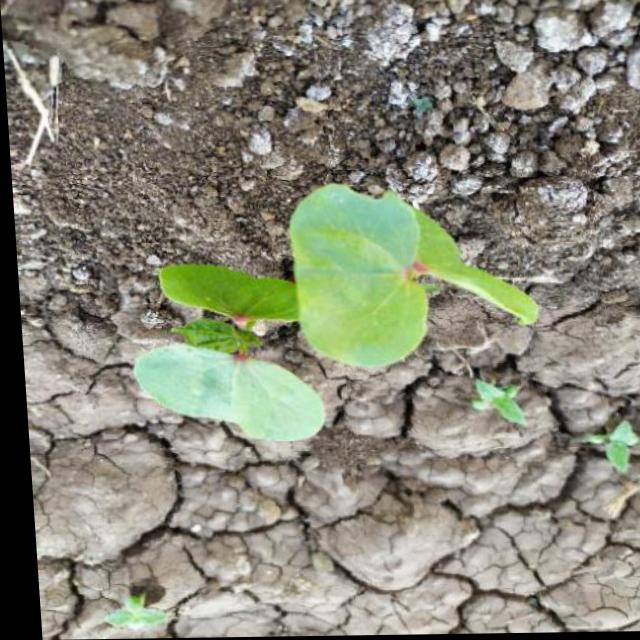weed: (108, 168, 543, 460)
